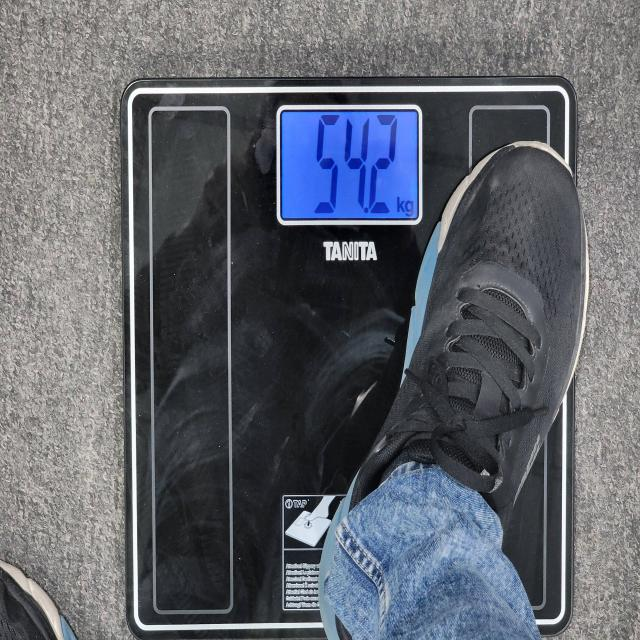ws: (274, 105, 422, 228)
